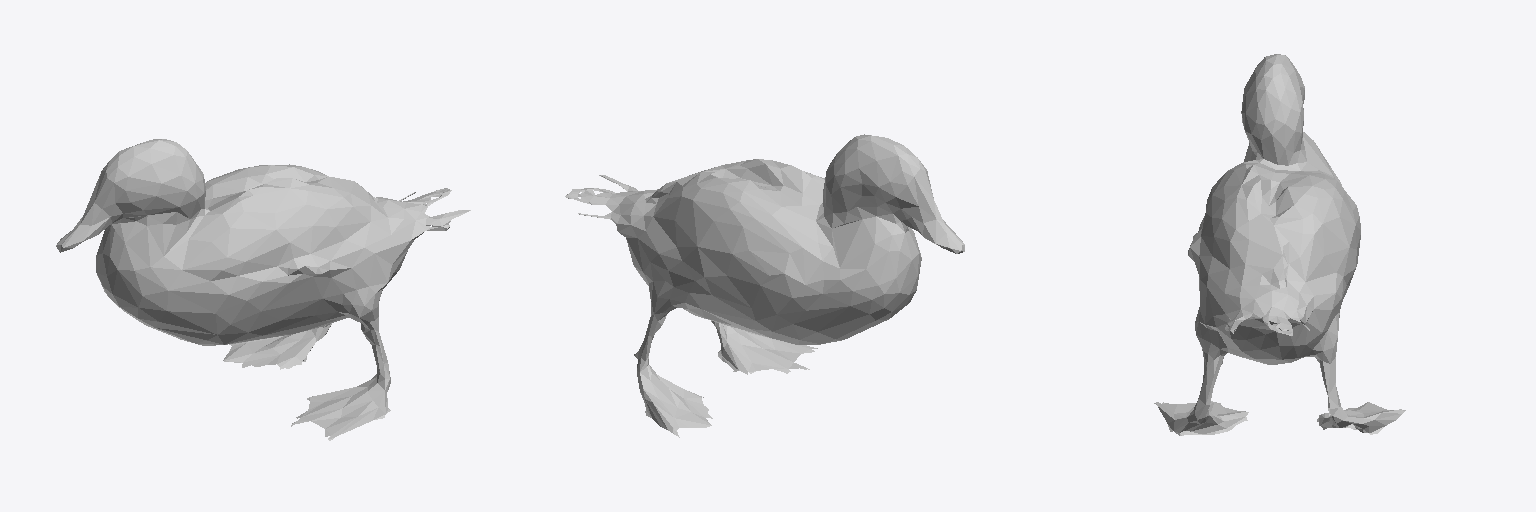
File: duck2.obj
The picture shows the model from 3 angles: view 1: azimuth 30°, elevation 25°; view 2: azimuth 150°, elevation 25°; view 3: azimuth 270°, elevation 25°; orthographic projection.
Parts seen in each view (by area): view 1: duck:Mesh; view 2: duck:Mesh; view 3: duck:Mesh.
Part boxes in pixels (bbox=[...]): duck:Mesh: bbox=[56, 139, 470, 440]; duck:Mesh: bbox=[565, 134, 964, 437]; duck:Mesh: bbox=[1154, 54, 1405, 435].
Size of the model in its own units: 3.83 by 2.65 by 2.13.